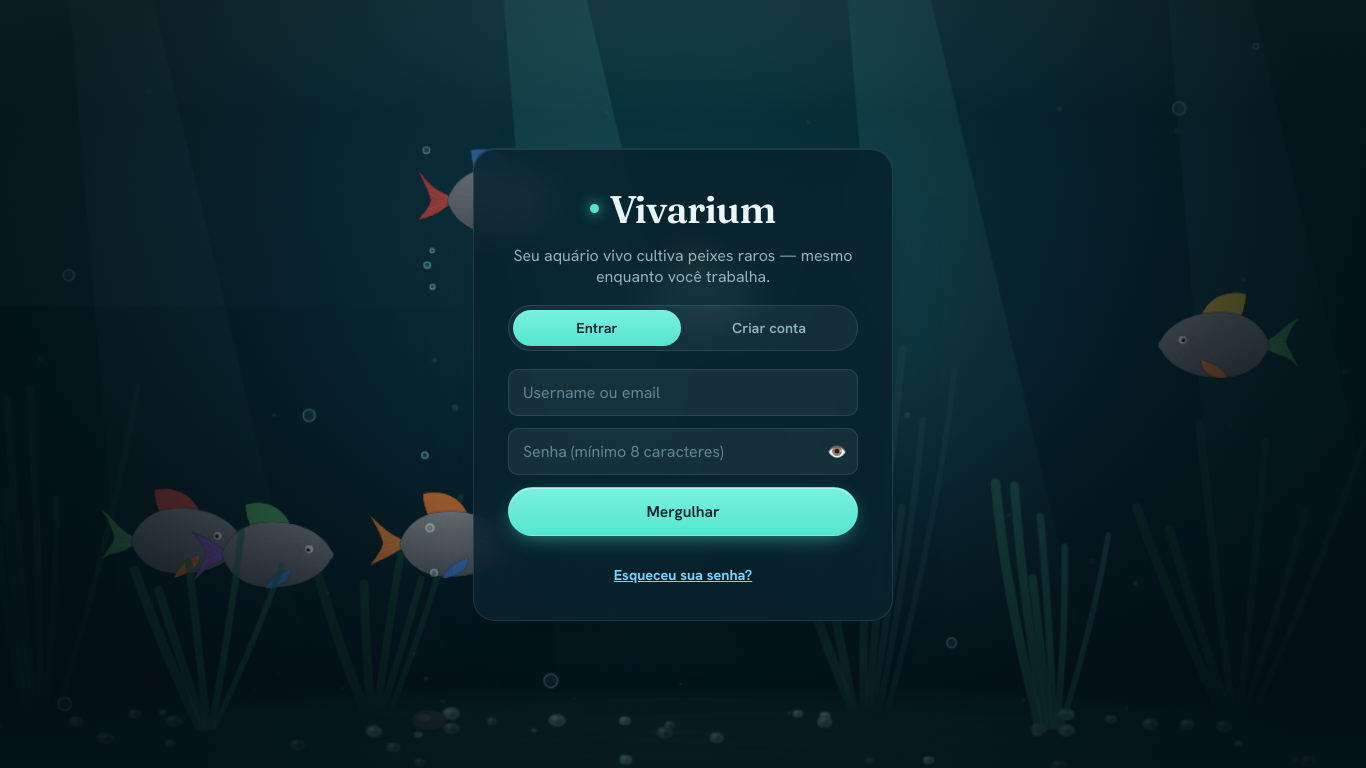
Scenario: Registro de cruzamentos › sem cruzamentos ainda: mostra aviso, não a lista
In the field with placeholder "Username ou email": (683, 393) x1=508 y1=369 x2=858 y2=416, type "jogador1"
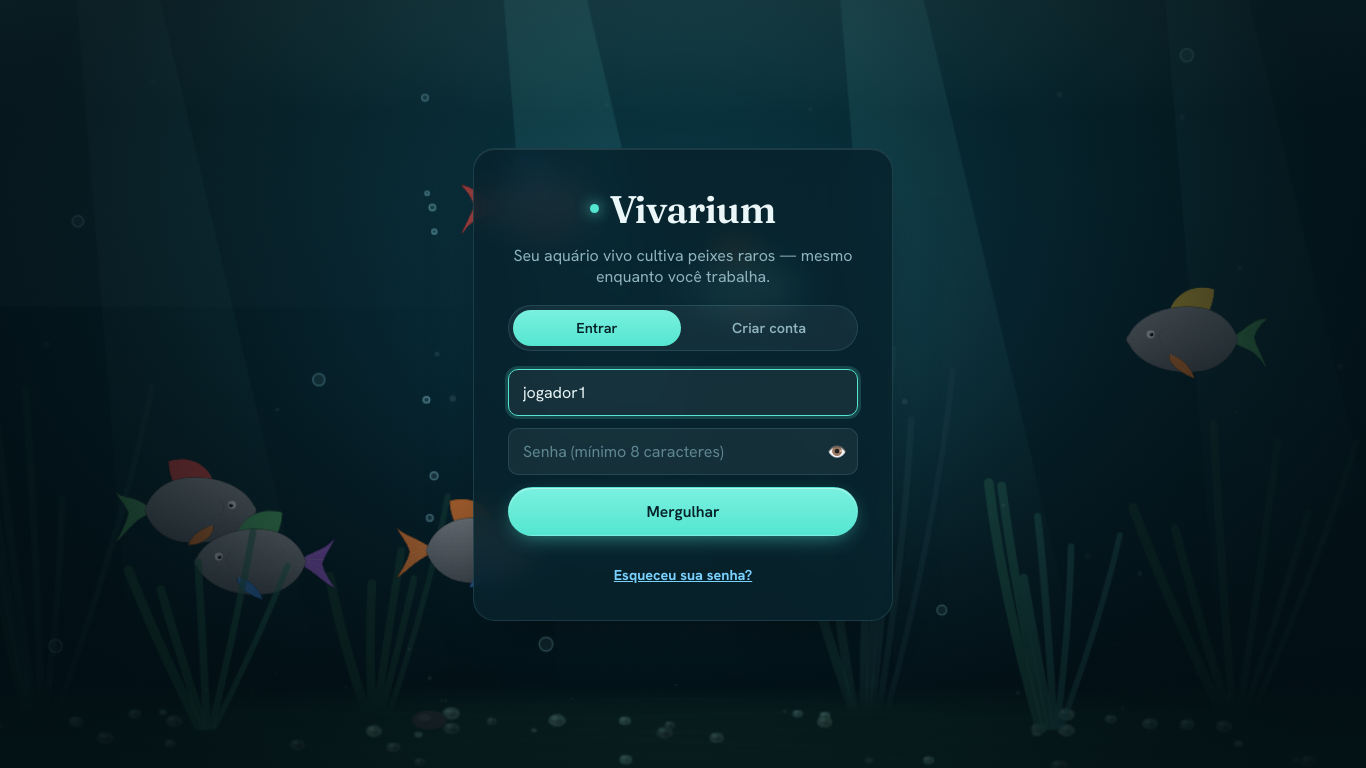
In the password field with placeholder "Senha (mínimo 8 caracteres)": (683, 452) x1=508 y1=428 x2=858 y2=475, type "senha-forte-123"
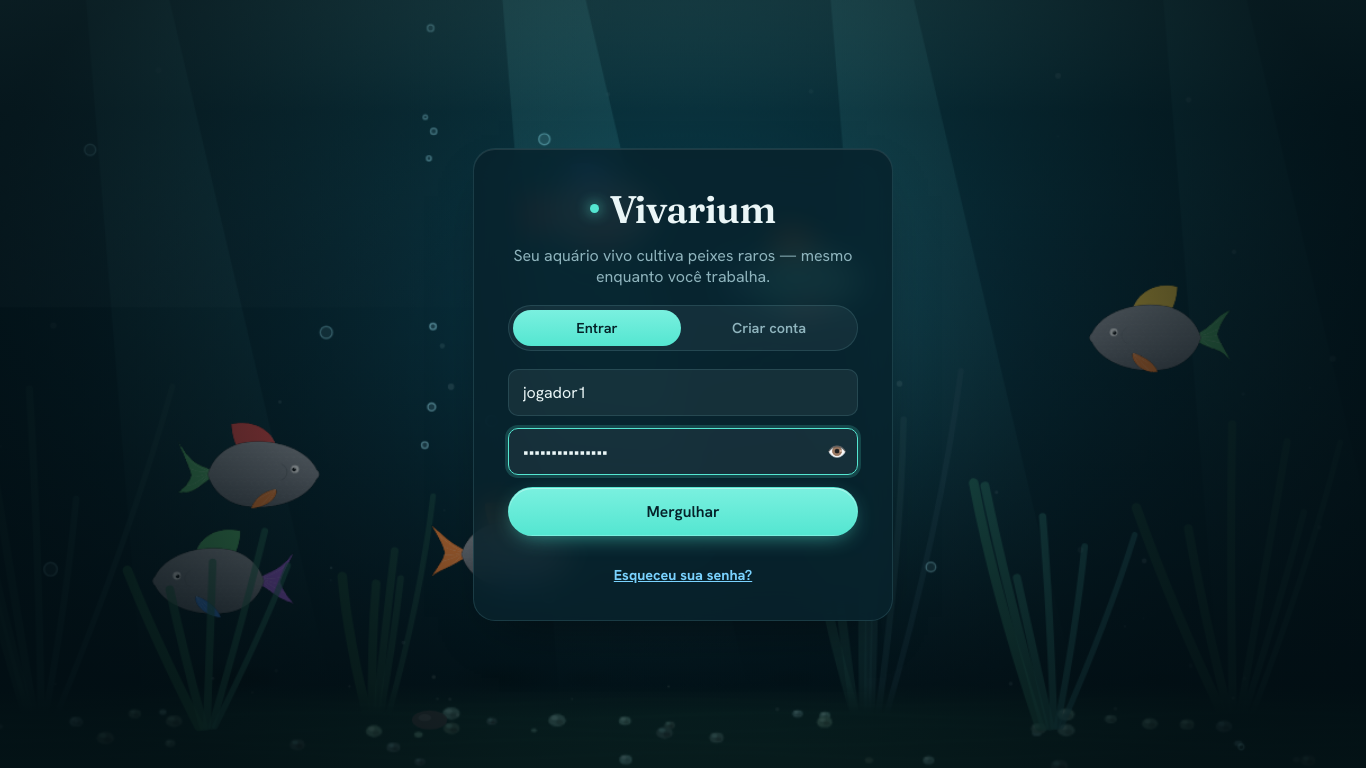
Click the button "Mergulhar": (683, 512) x1=508 y1=487 x2=858 y2=536
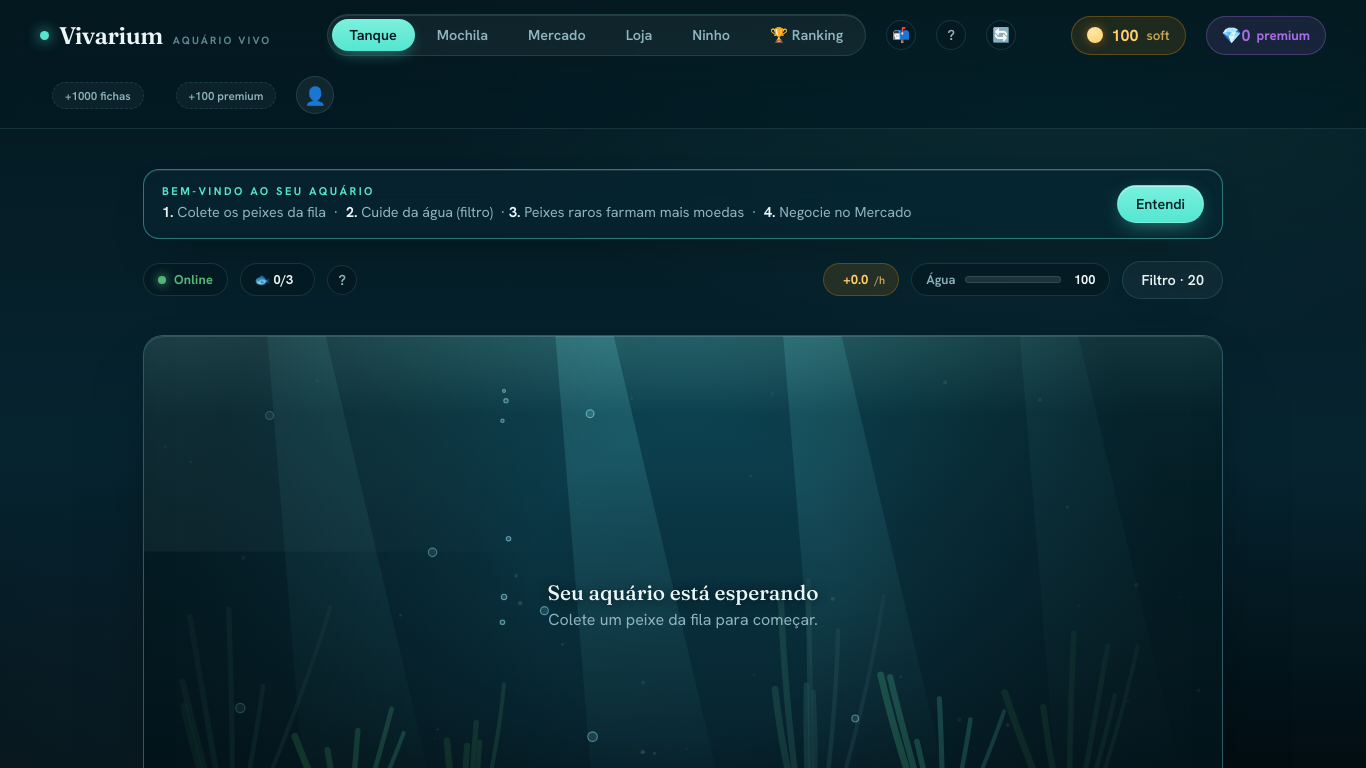
Click the button "Ninho": (711, 35) x1=674 y1=19 x2=748 y2=51
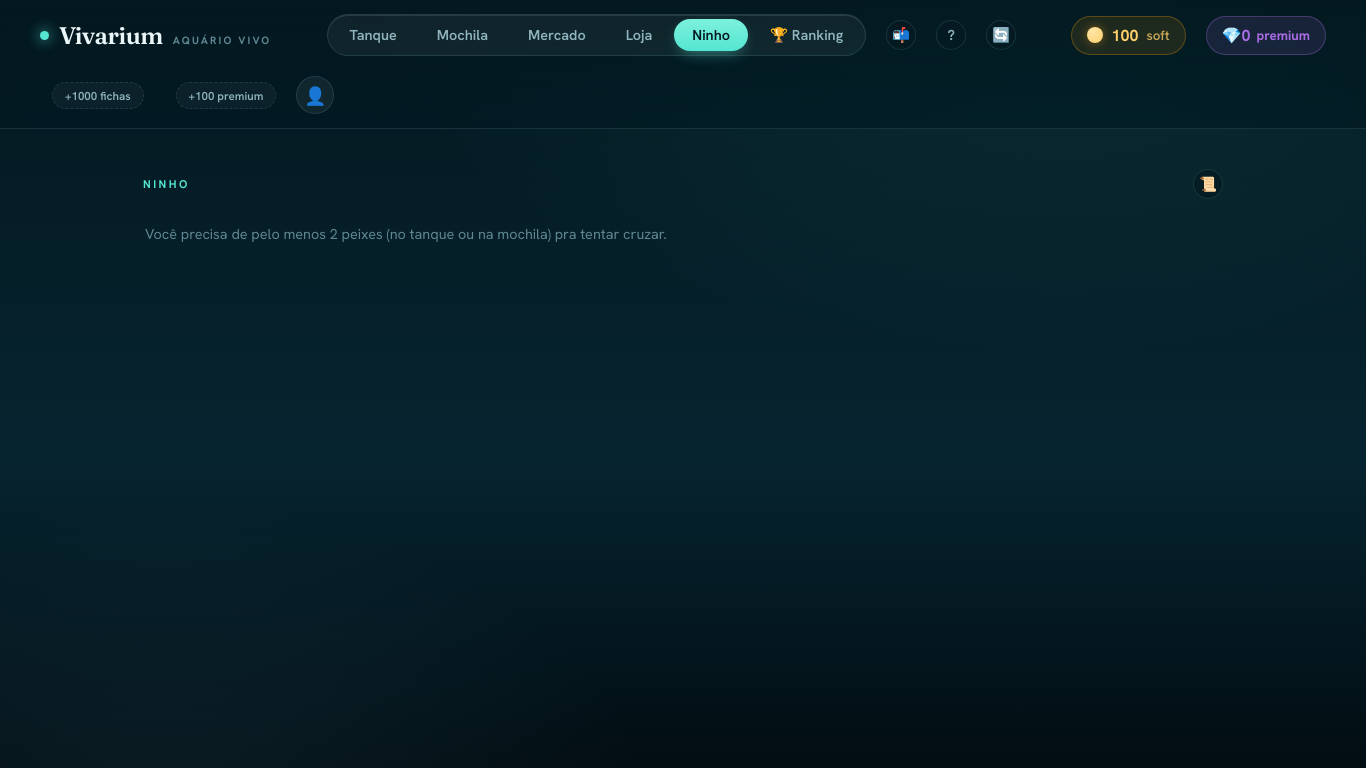
Click the button titled "Registro de cruzamentos": (1208, 184) x1=1193 y1=169 x2=1223 y2=199
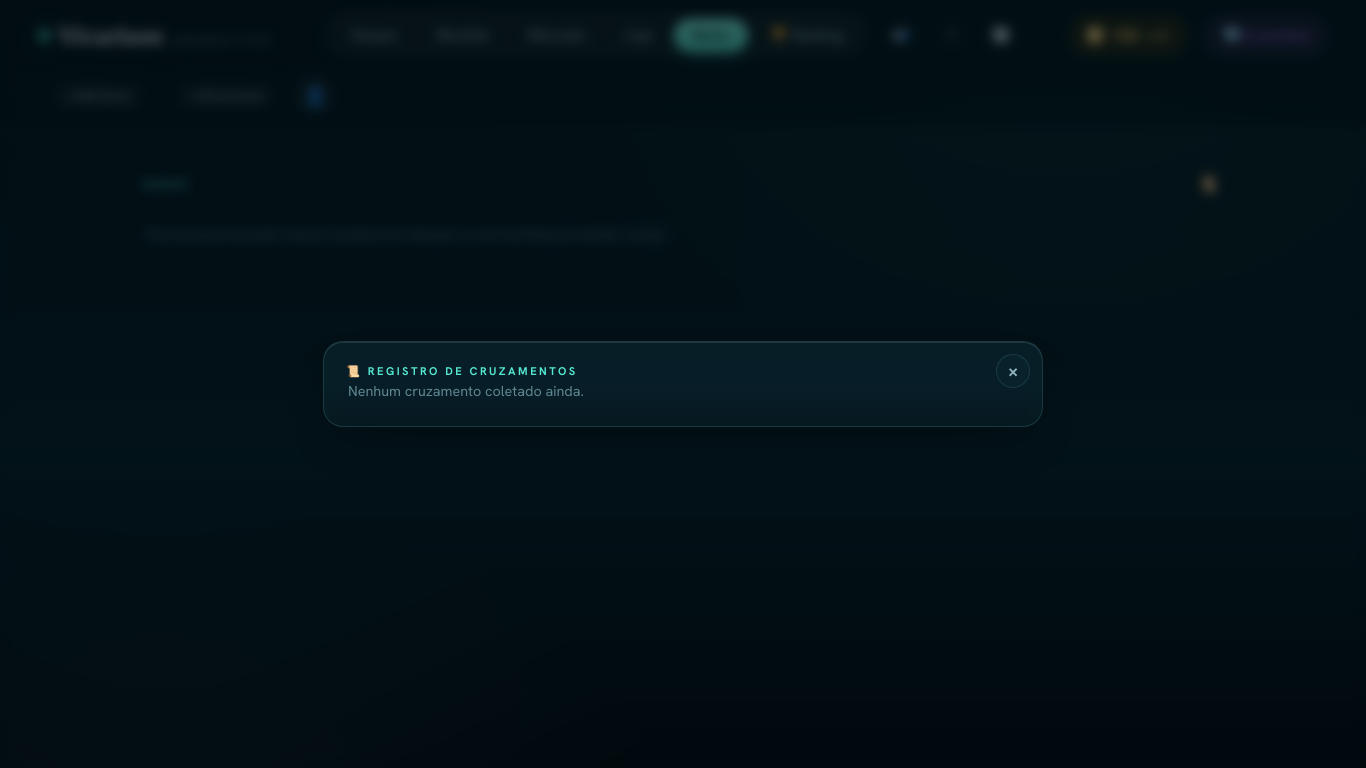
Now the text "Nenhum cruzamento coletado ainda." is shown, box x1=348 y1=382 x2=584 y2=400
